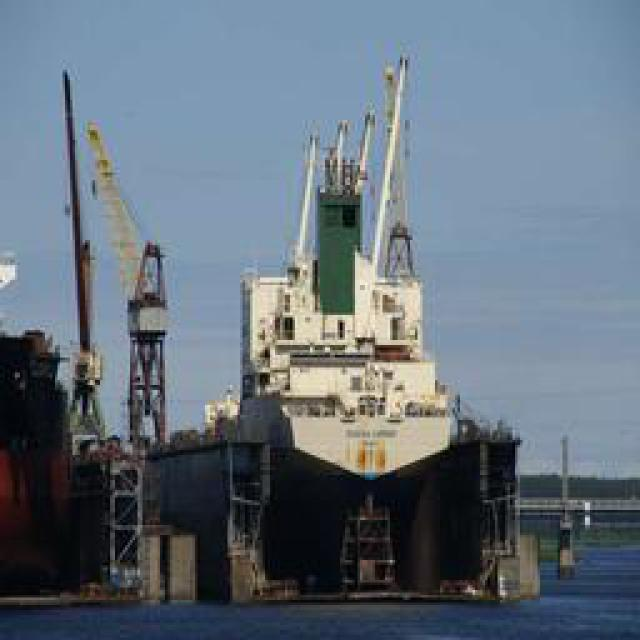Ship: (231, 39, 506, 572)
